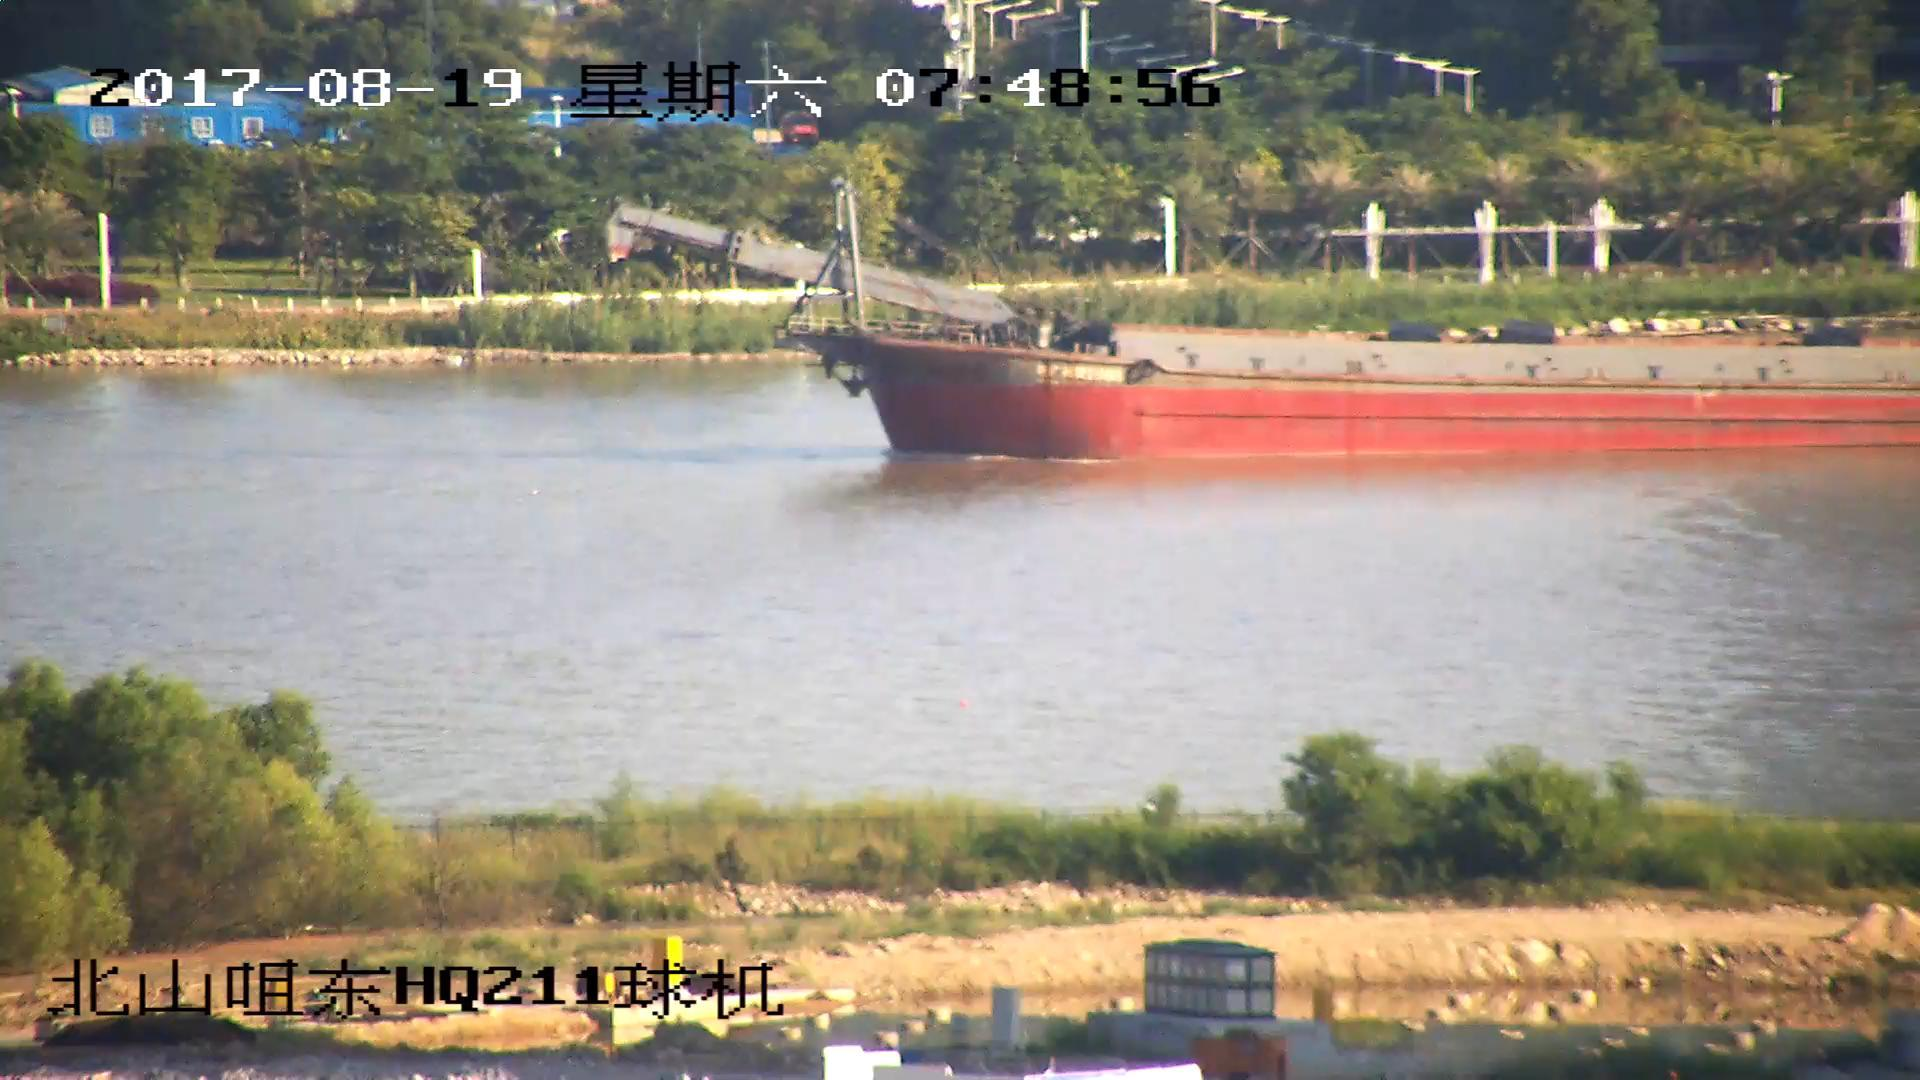Ship: (617, 196, 1920, 465)
